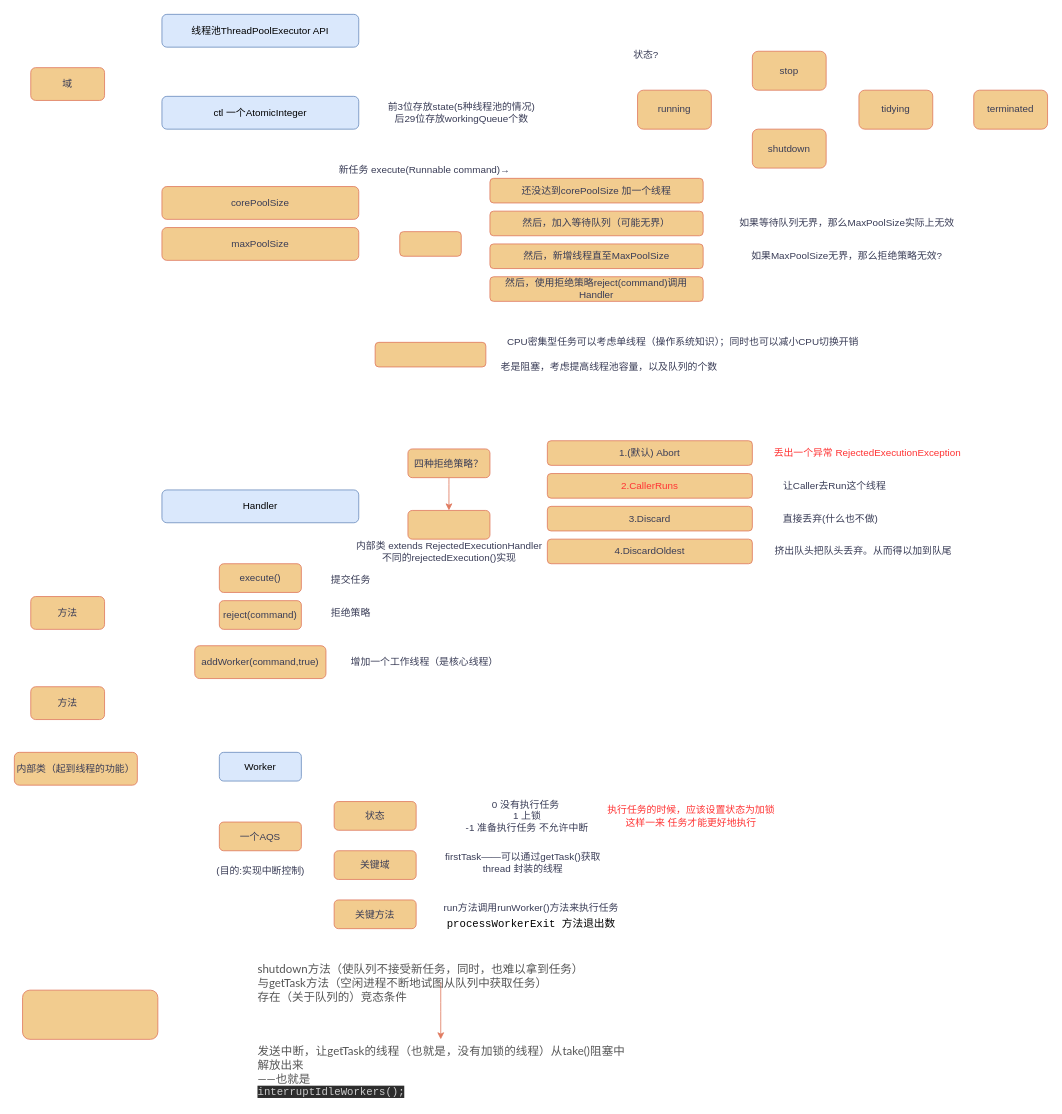
Image size: 1062x1114. Some labels were removed from this diagram. Here are the shapes that lost their labels. From the top down, the centre of each, then its label:
(x=430, y=243): 逻辑?
(x=430, y=354): CPU型和IO型如何设置队列和PoolSize?
(x=448, y=524): 实现方式？
(x=90, y=1014): shutdown()的时候发生了什么？和中断的关系是？
